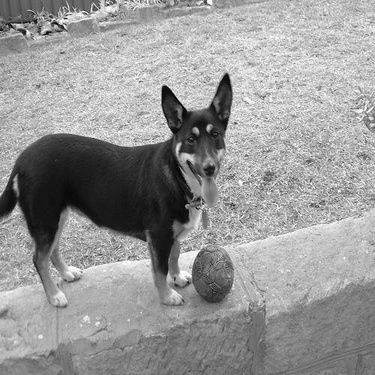dog: (4, 65, 247, 312)
